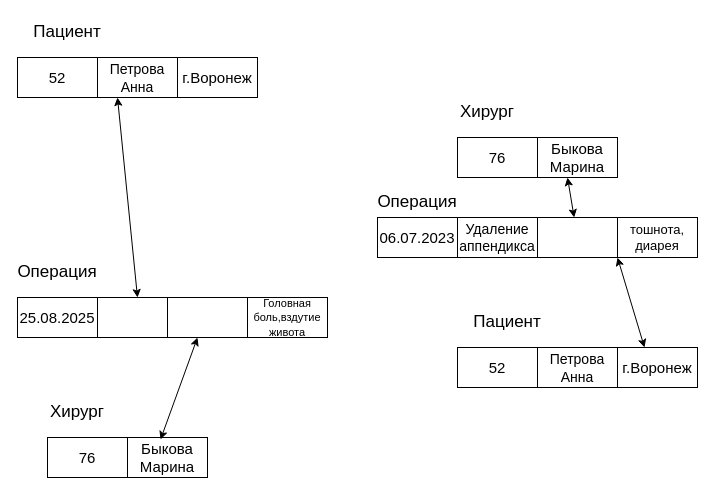
The diagram is 715 pixels wide and 495 high, and some of its shapes have lost their labels. The box of each missing label's shape, as (x1, y1, x2, y2) in pixels:
Омепразол: (166, 296, 248, 338)
удаление желчного пузыря): (96, 296, 178, 338)
Цеф триаксон: (536, 216, 618, 258)
